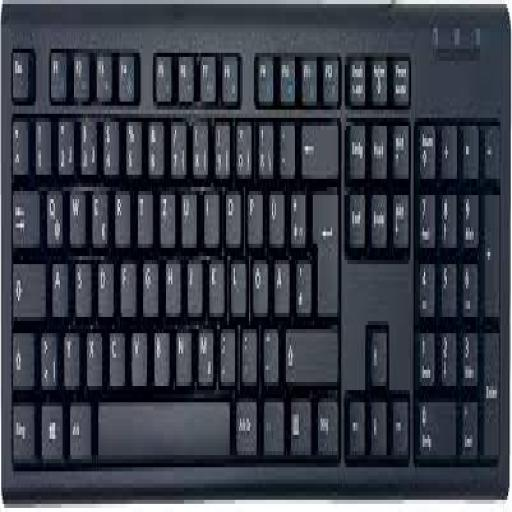KEYBOARD-2: (0, 8, 511, 500)
